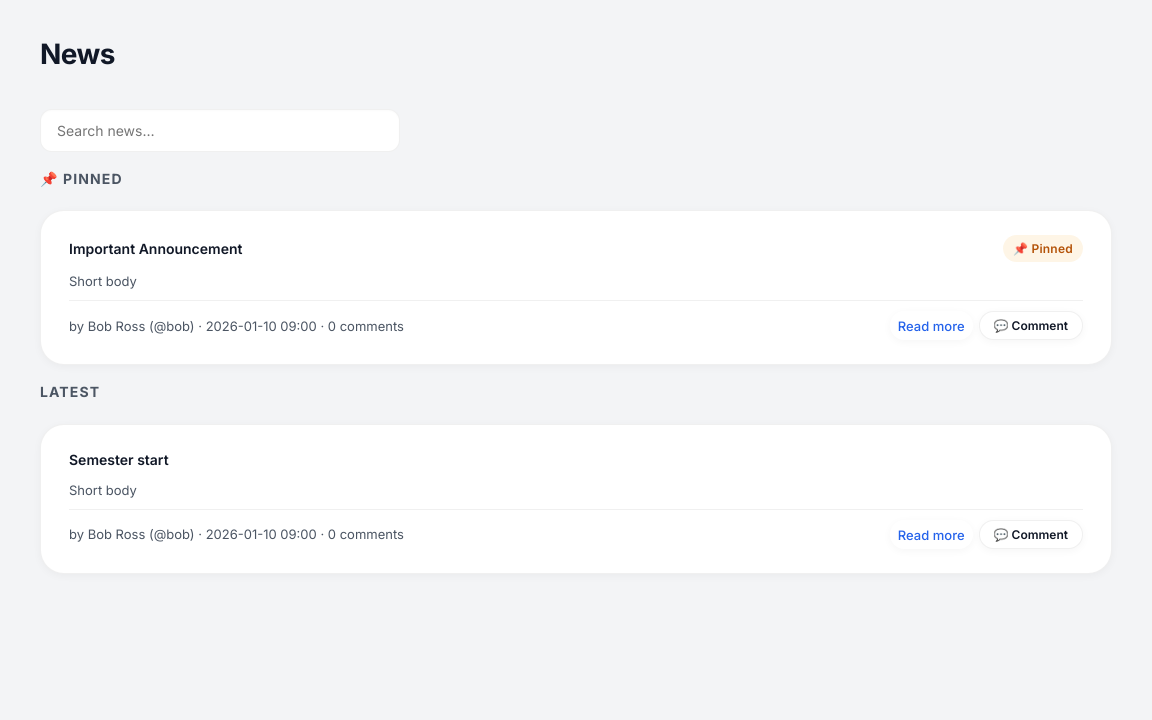
Test: search filters news by title
Expected: the text "Semester start" is shown, [69,449,169,471]
Type "Important" into the field with placeholder "Search news…" at (220, 130), box [40,109,400,152]
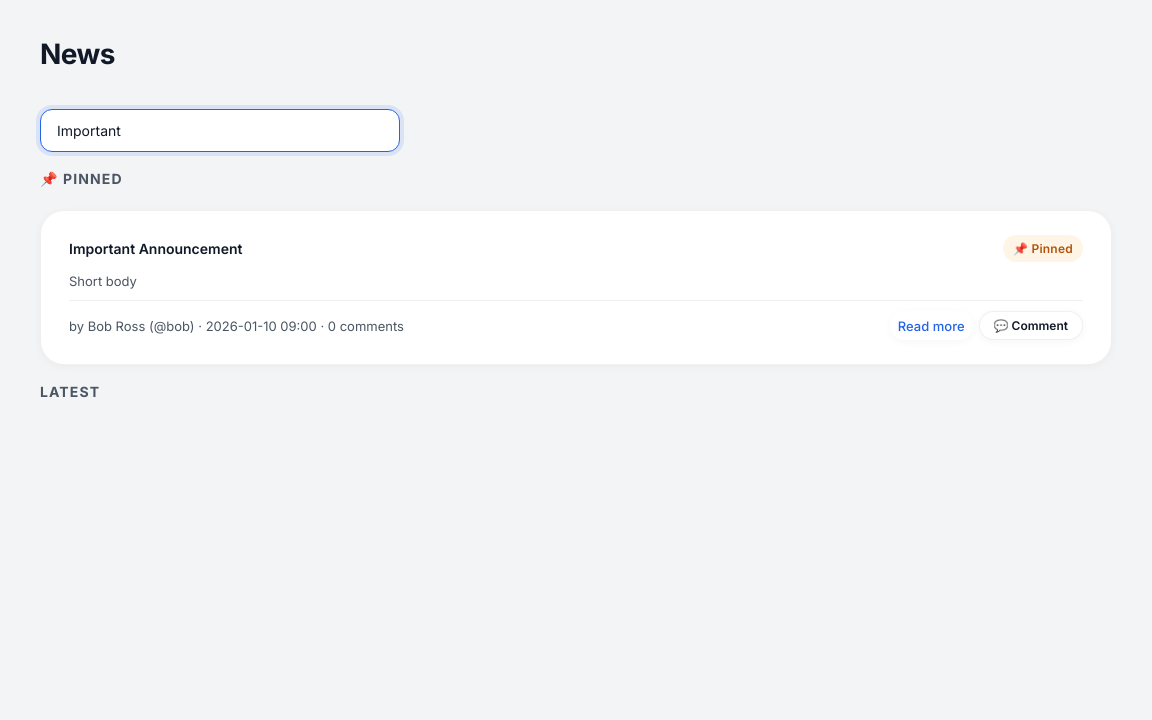
Expected: the text "Important Announcement" is shown, [69,238,242,260]
Expected: the text "Semester start" is gone
